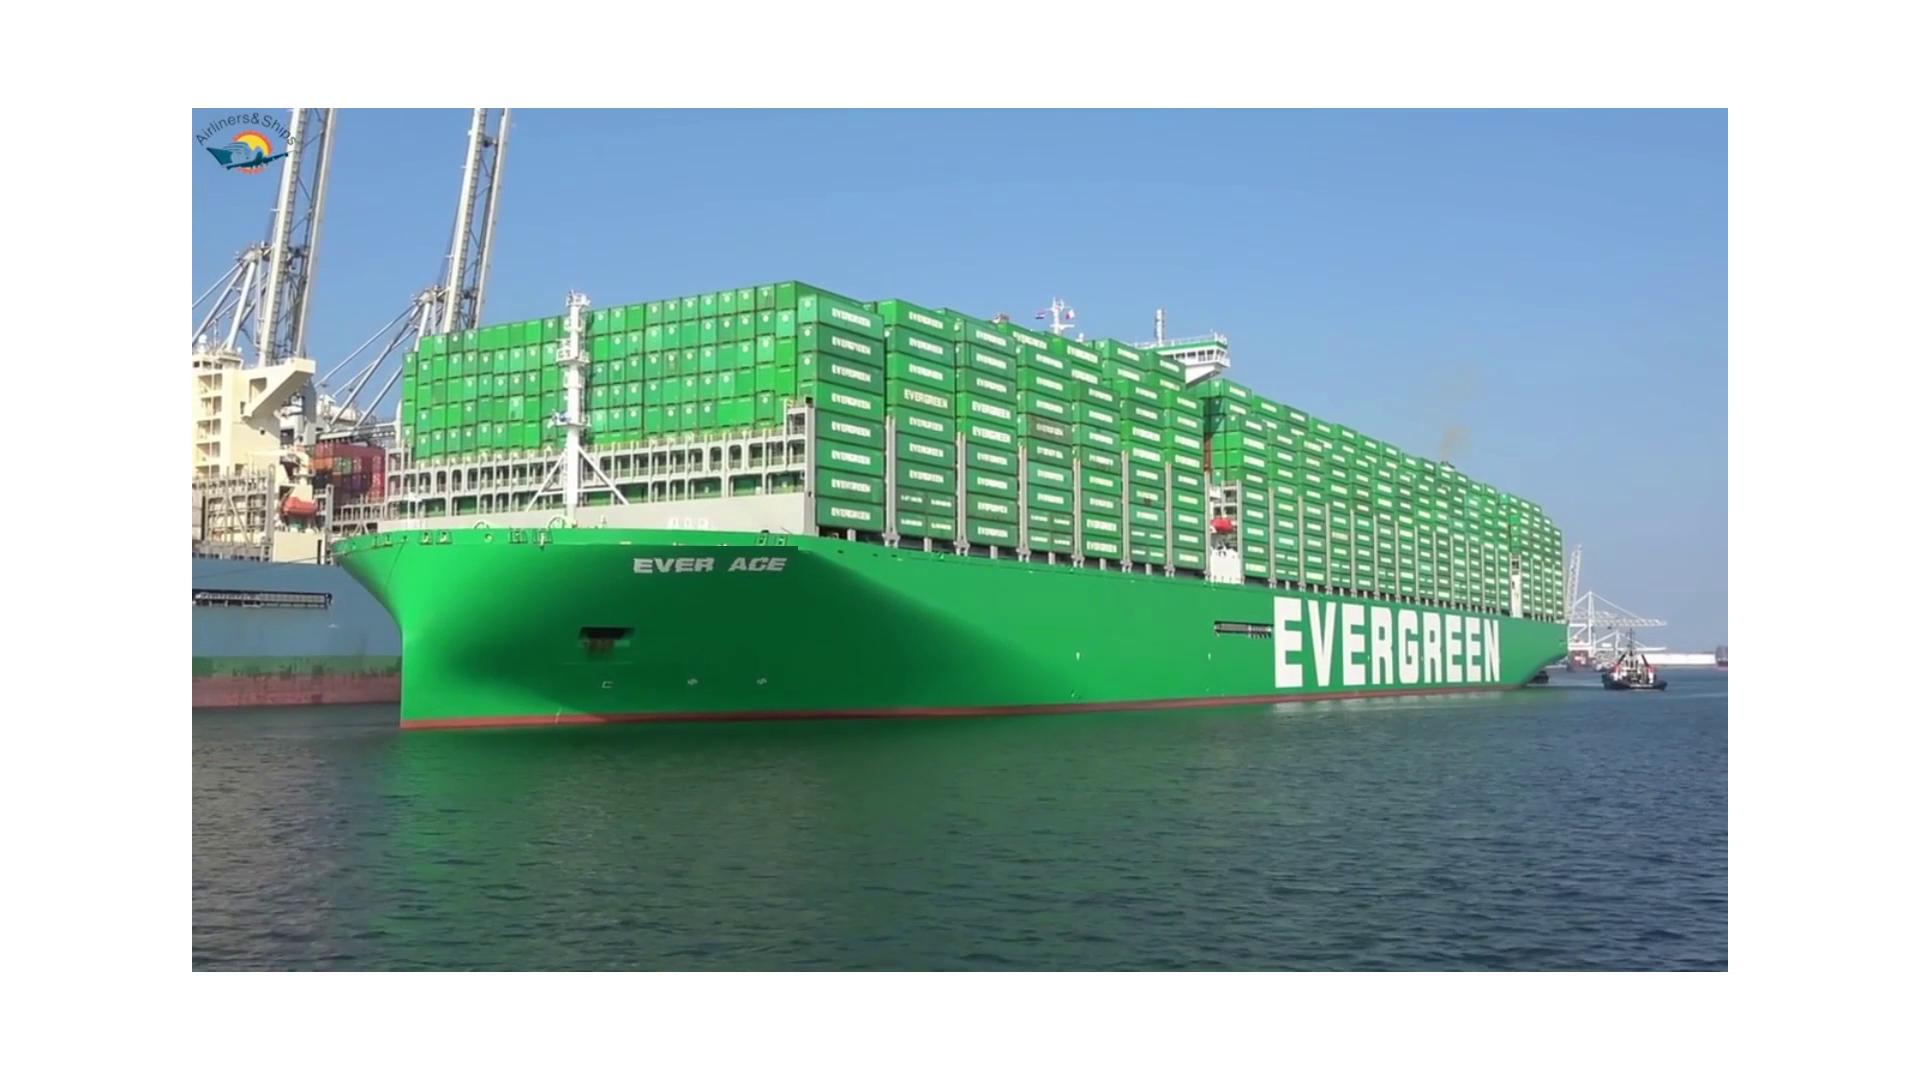OCR: (611, 546, 798, 597)
